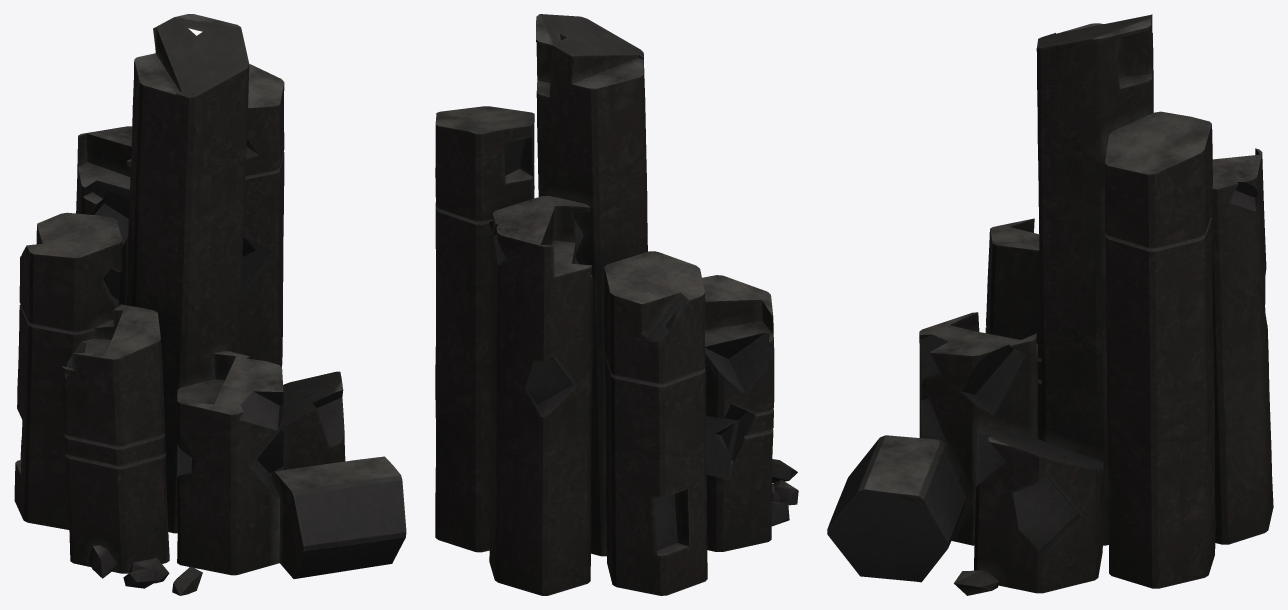
Rendered from b4p_basalt_columns.glb.
The picture shows the model from 3 angles, left to right: view 1: azimuth 30°, elevation 25°; view 2: azimuth 150°, elevation 25°; view 3: azimuth 270°, elevation 25°; orthographic projection. The views are drawn at different scales.
Visible parts, largest first — view 1: b4p_basalt_columns; view 2: b4p_basalt_columns; view 3: b4p_basalt_columns.
Boxes of the visible parts, x1=… form: b4p_basalt_columns: x1=14, y1=14, x2=406, y2=595; b4p_basalt_columns: x1=435, y1=14, x2=798, y2=595; b4p_basalt_columns: x1=827, y1=14, x2=1273, y2=595.
Bounding box in the file's own units: 1.42 × 2.2 × 1.73.
1 material, 1 textured.
